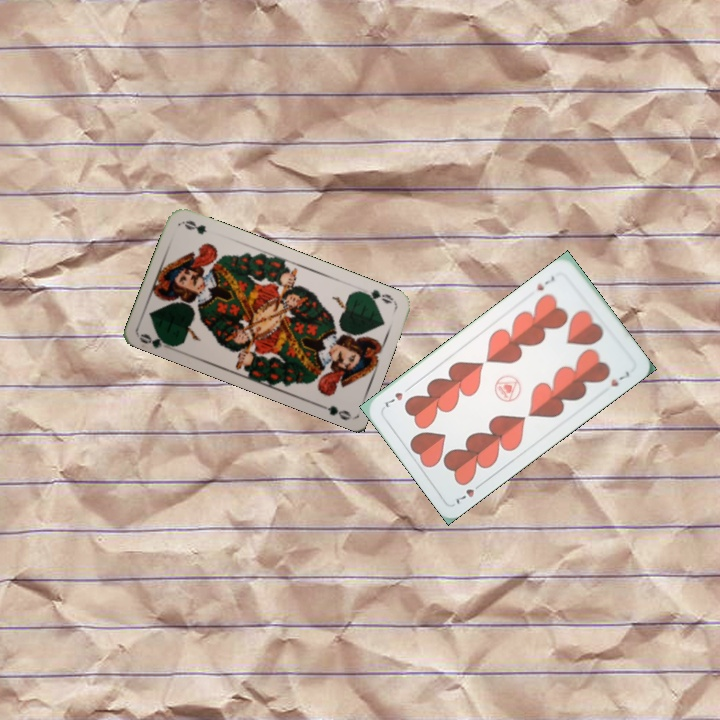GO: (136, 329, 177, 351), (357, 285, 396, 306)
H7: (452, 478, 486, 507), (533, 272, 558, 293)
